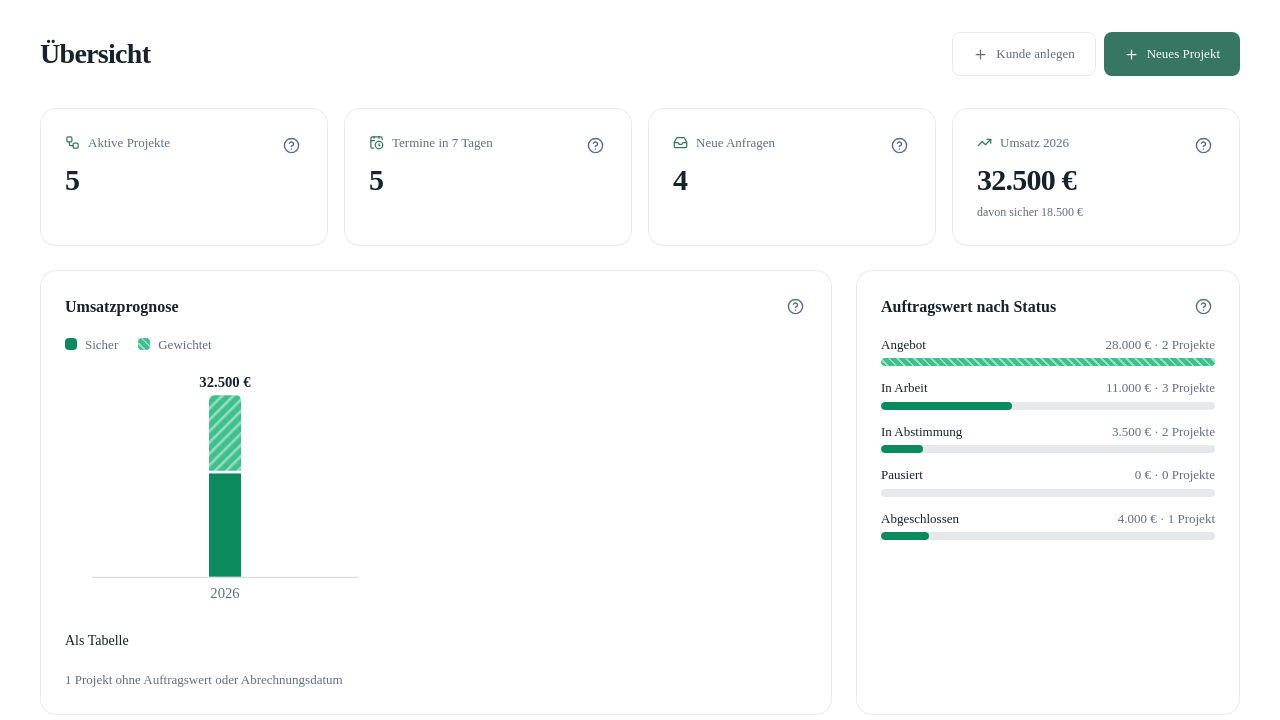
Dashboard aufs Wichtigste › AK-8: Fehler lassen den Dialog offen, Schließen gibt den Fokus zurück
The image size is (1280, 720).
Click the button "Kunde anlegen".
click(1024, 54)  # box [952,32,1096,76]
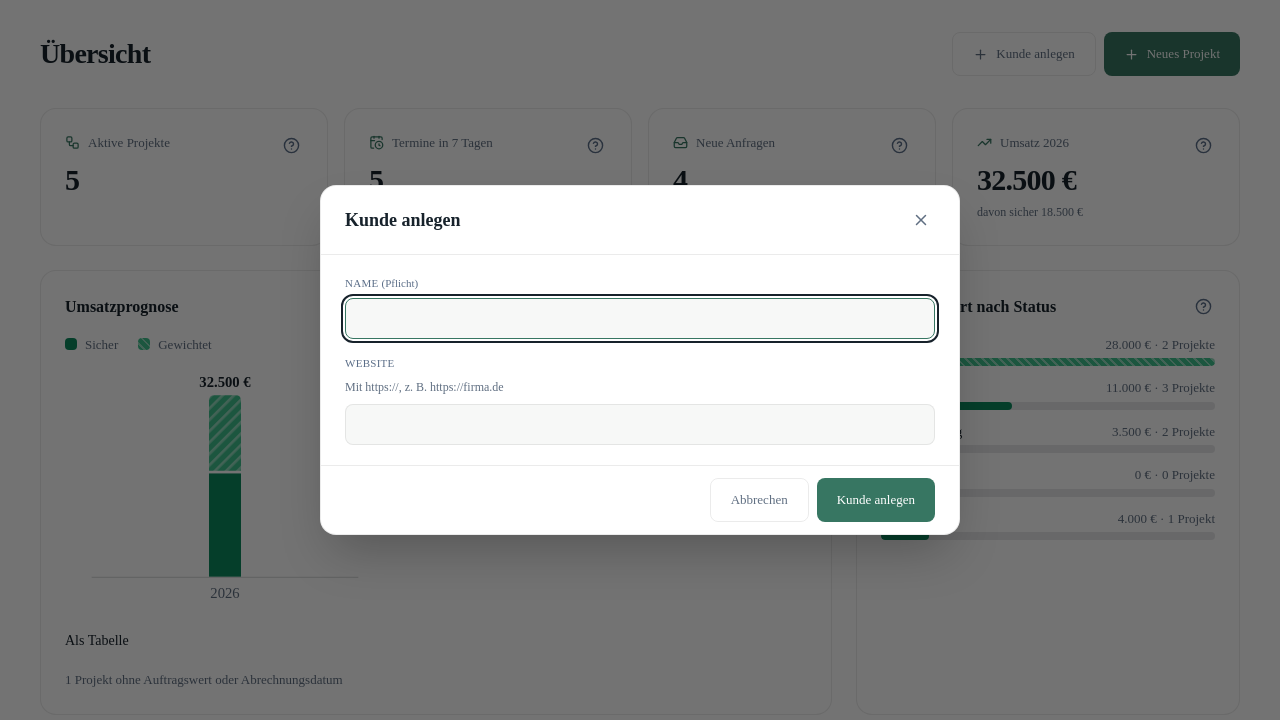
Click the 2nd button "Kunde anlegen".
click(876, 500)  # box [817,478,935,522]
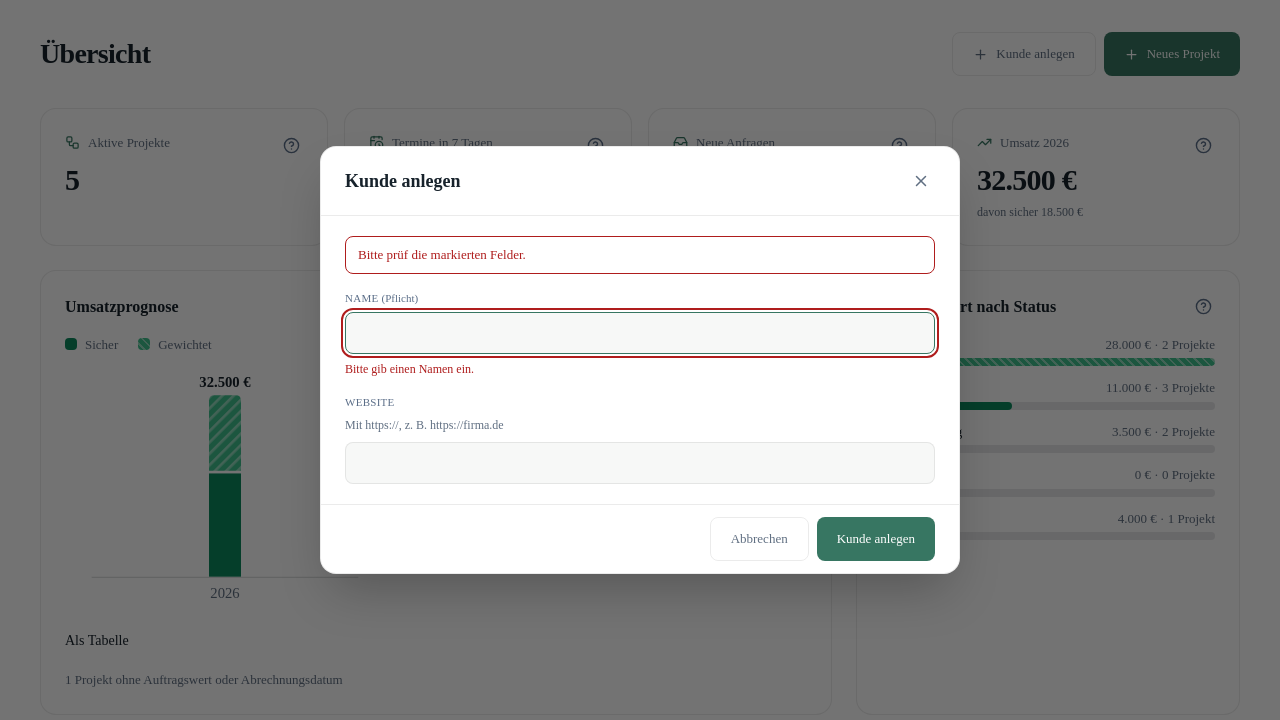
Expected: the dialog is shown, [320,146,960,574]
Click the button named "Schließen".
click(921, 181)  # box [899,159,943,203]
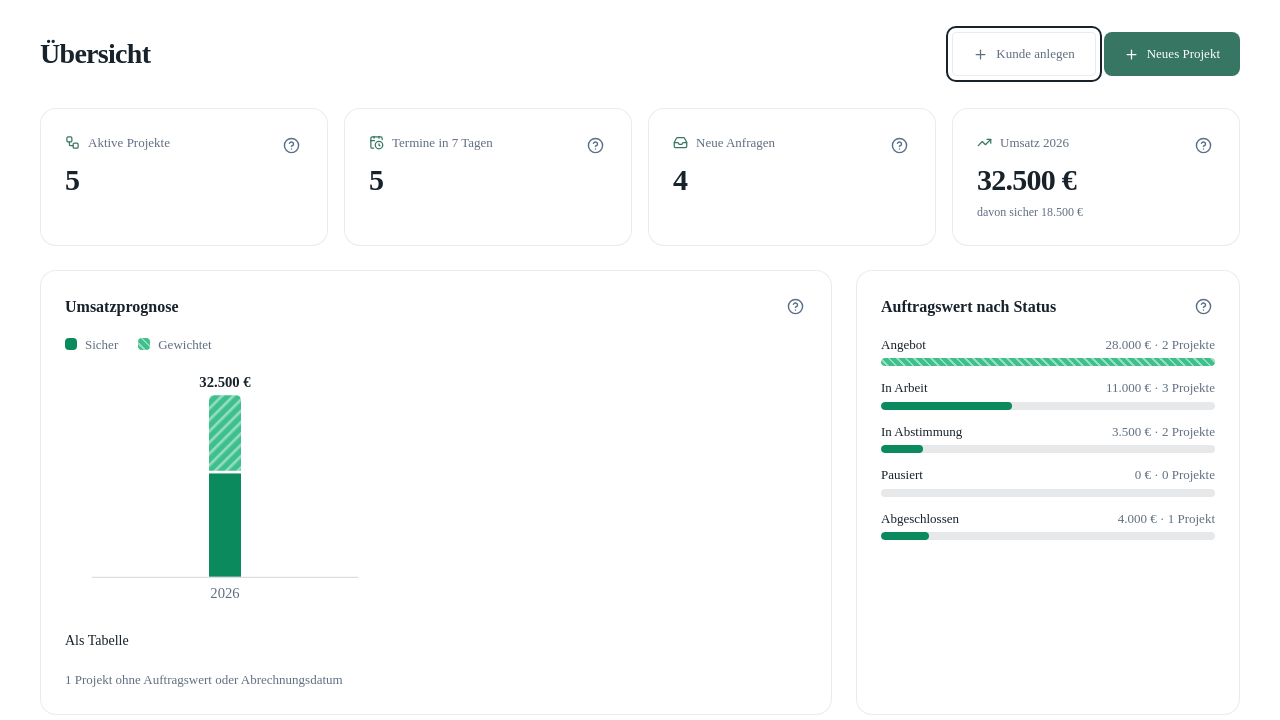
Expected: the dialog is gone
